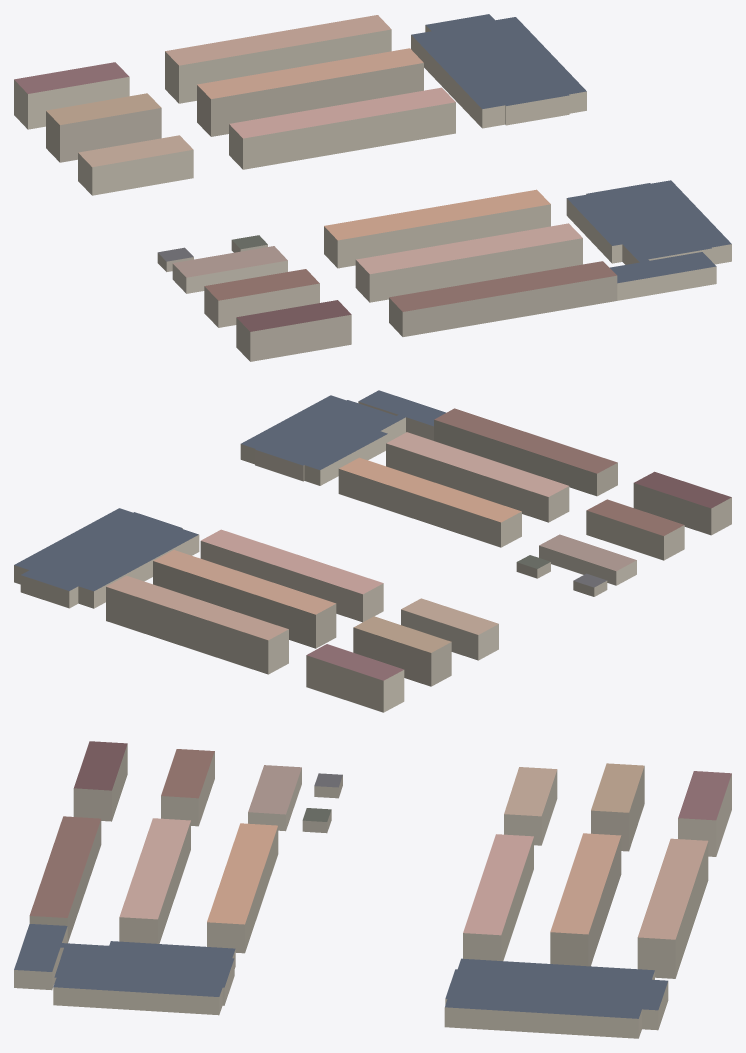
3 renders of one model, top to bottom at view 1: azimuth 30°, elevation 25°; view 2: azimuth 150°, elevation 25°; view 3: azimuth 270°, elevation 25°, orthographic. The views are drawn at different scales.
Parts seen in each view (by area): view 1: tuile; view 2: tuile; view 3: tuile.
Boxes of the visible parts, x1=… form: tuile: x1=14, y1=14, x2=731, y2=361; tuile: x1=14, y1=390, x2=731, y2=712; tuile: x1=14, y1=741, x2=731, y2=1038.
Size of the model in its own units: 229 by 15.78 by 260.
